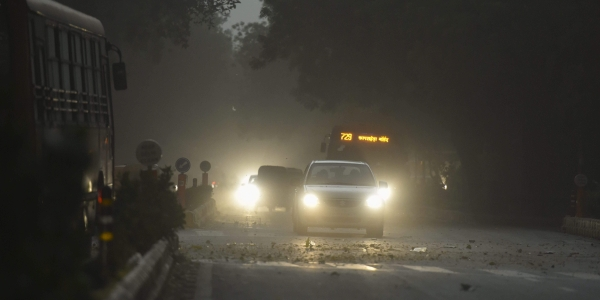bus: (0, 6, 132, 290), (320, 122, 404, 226)
car: (294, 160, 386, 236), (258, 165, 301, 213), (240, 171, 259, 200)
